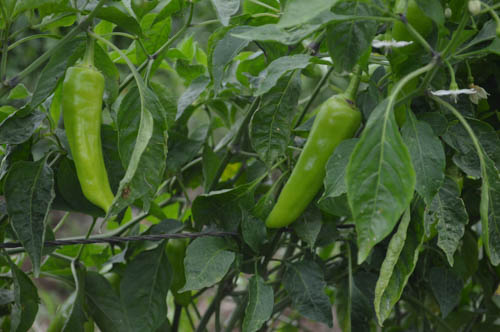ChiliPepper: (265, 97, 360, 229), (63, 67, 115, 208)
